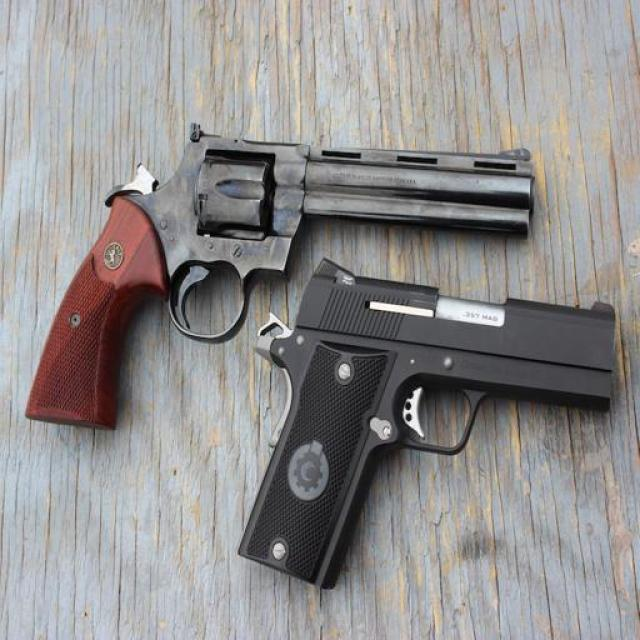pistol: (20, 121, 542, 427), (223, 257, 618, 576)
